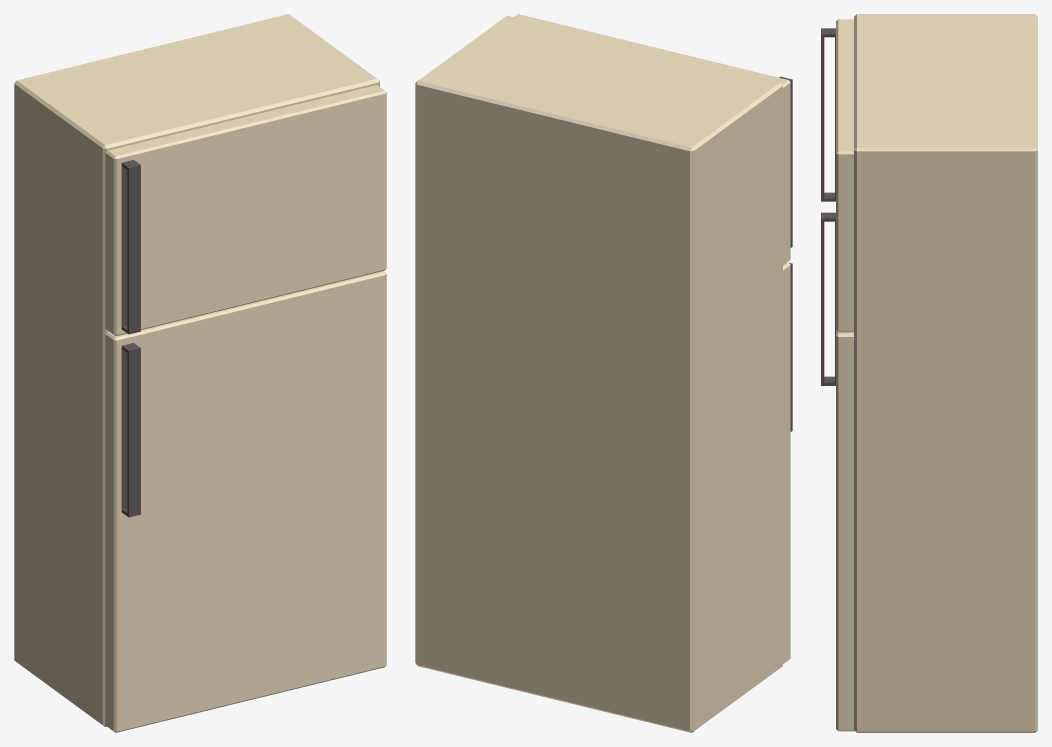
The model's file is fridge.glb.
The picture shows the model from 3 angles, left to right: view 1: azimuth 30°, elevation 25°; view 2: azimuth 150°, elevation 25°; view 3: azimuth 270°, elevation 25°; orthographic projection.
Parts seen in each view (by area): view 1: TopFridge1, DownDoor1_TopFridge1; view 2: TopFridge1, DownDoor1_TopFridge1; view 3: TopFridge1, DownDoor1_TopFridge1.
Part boxes in pixels (x1,y1,x2,y2): TopFridge1: (14, 14, 386, 732); DownDoor1_TopFridge1: (121, 160, 140, 517); TopFridge1: (415, 14, 790, 732); DownDoor1_TopFridge1: (779, 76, 792, 431); TopFridge1: (836, 14, 1037, 732); DownDoor1_TopFridge1: (821, 28, 835, 385).
Bounding box in the file's own units: 1.07 × 2.15 × 0.7218.
